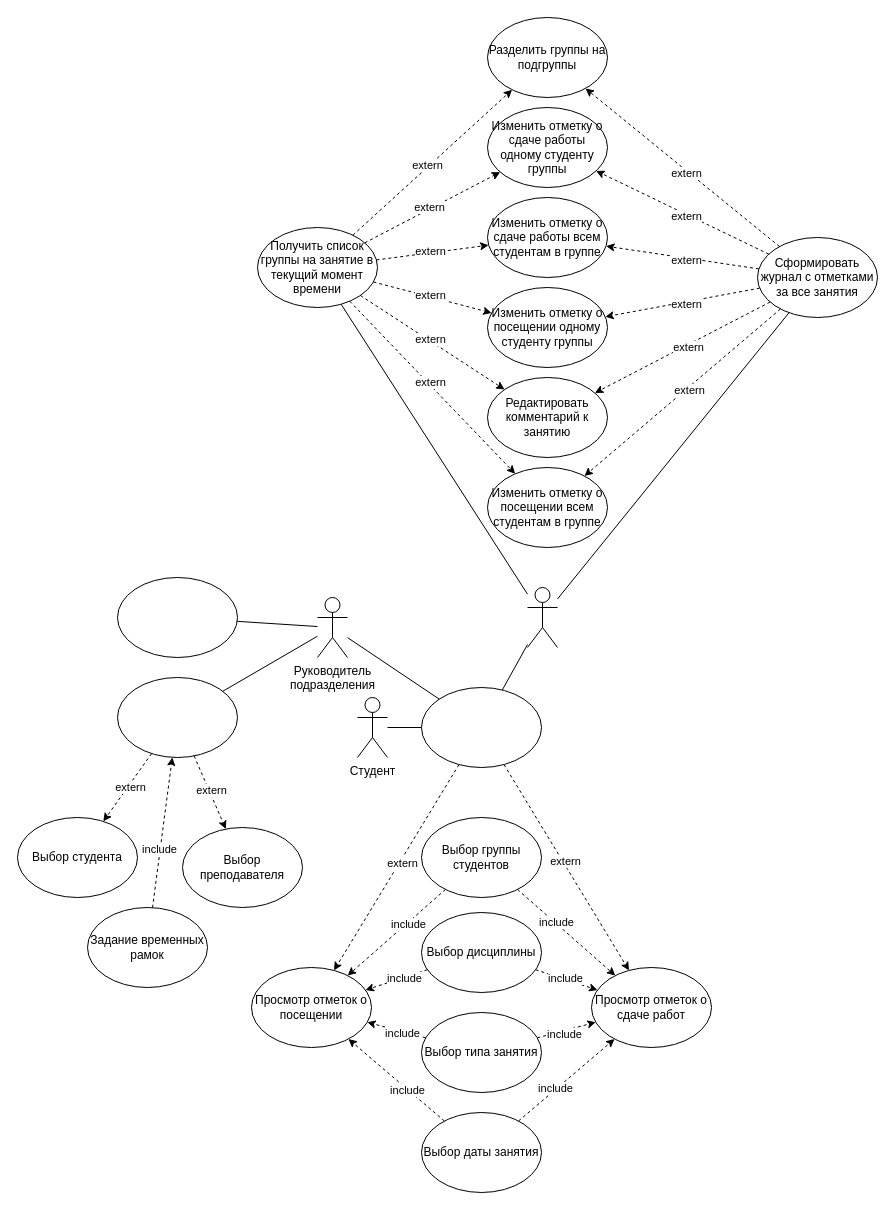
Some shapes in this 895 by 1210 pixel diagram are drawn without their labels. The centre of each missing label's shape, as x and y in pixels:
Вход в систему через личный кабинет: [481,727]
Задание рамок статистической выборки: [177,717]
Преподаватель: [542,617]
Просмотр статистики: [177,617]
